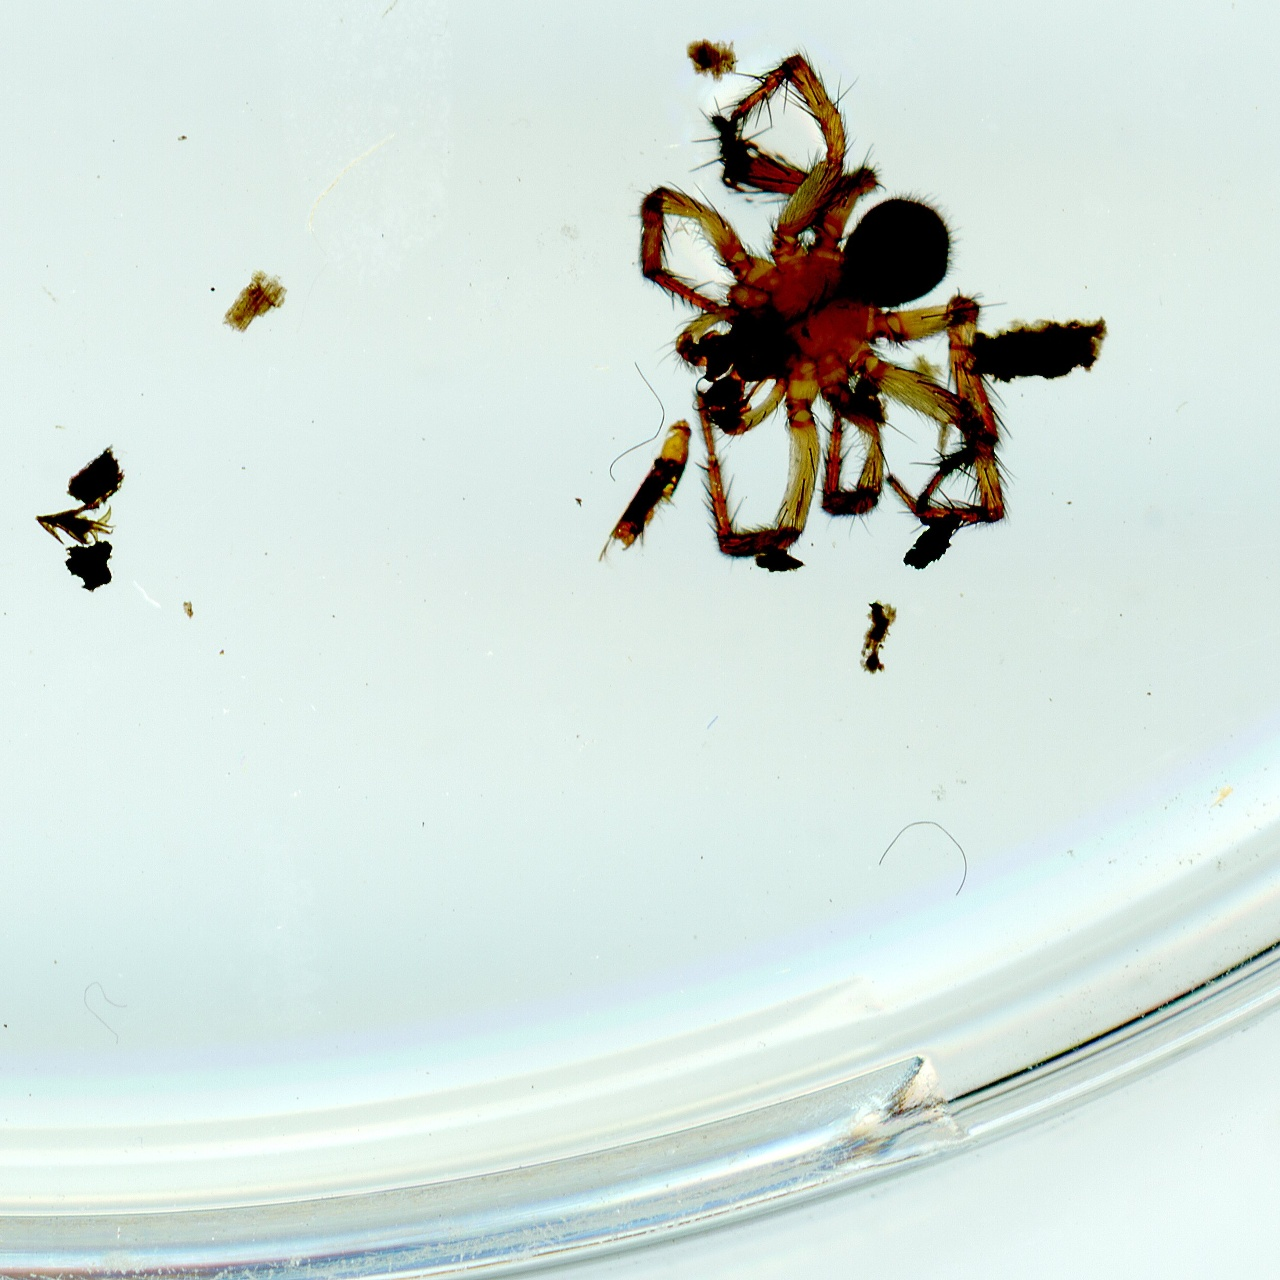arthropod: (620, 29, 1032, 581)
